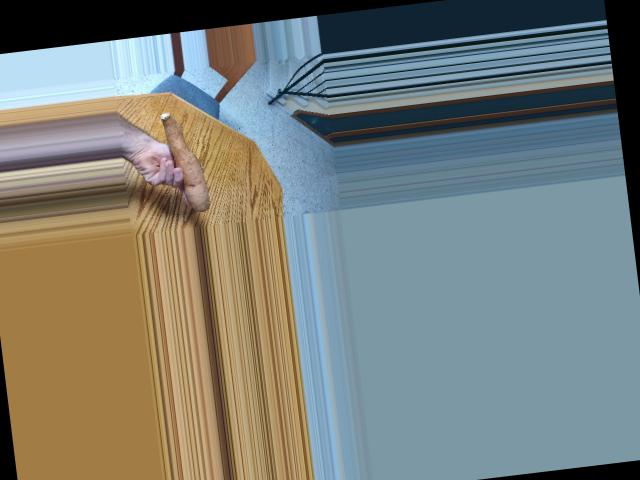sweet_potato: (155, 107, 214, 214)
